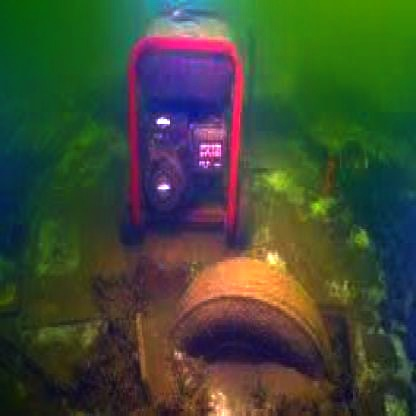misc: (129, 16, 249, 246)
